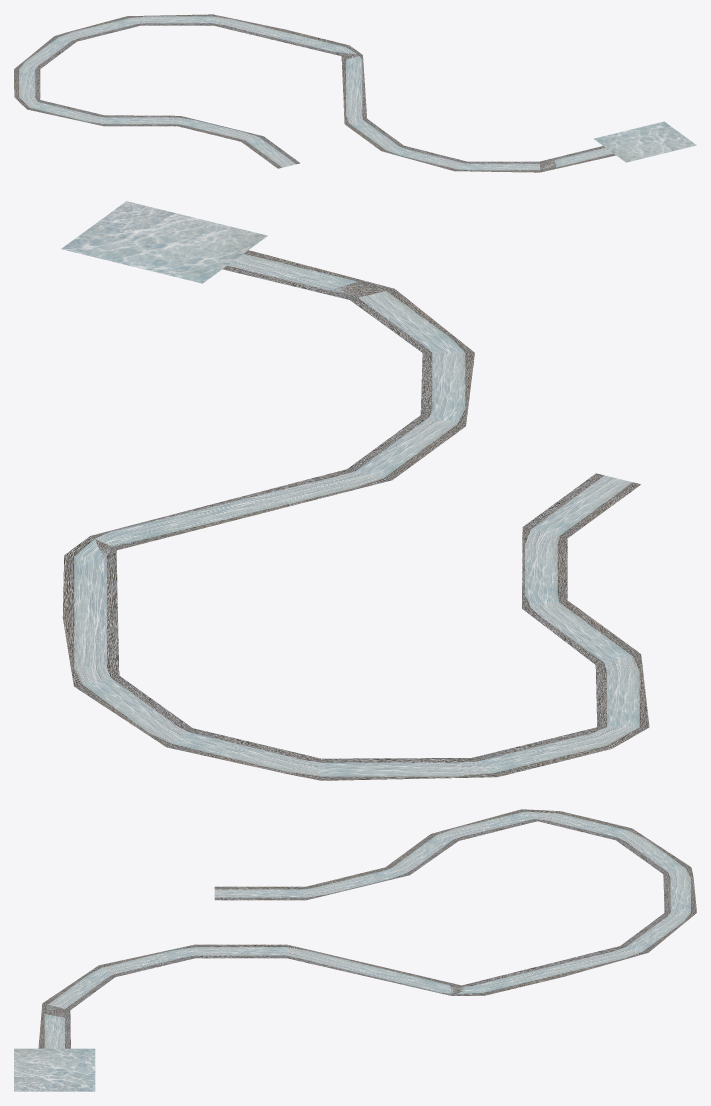
The model's file is level_true.fbx.
3 renders of one model, top to bottom at view 1: azimuth 30°, elevation 25°; view 2: azimuth 150°, elevation 25°; view 3: azimuth 270°, elevation 25°, orthographic. The views are drawn at different scales.
Visible parts, largest first — view 1: Box033, Box023, Box024, Box019, Box021, Box027, Box017, Box020, Box026, Box018, Box022, Box028 (+3 smaller); view 2: Box033, Box023, Box024, Box019, Box020, Box021, Box018, Box028, Box026, Box022, Box027, Box025 (+3 smaller); view 3: Box033, Box023, Box024, Box019, Box025, Box015, Box026, Box020, Box018, Box021, Box016, Box028 (+3 smaller).
Part boxes in pixels (bbox=[...]): Box033: bbox=[594, 121, 696, 162]; Box023: bbox=[212, 14, 362, 56]; Box024: bbox=[341, 55, 366, 123]; Box019: bbox=[14, 69, 40, 109]; Box021: bbox=[54, 16, 139, 41]; Box027: bbox=[454, 161, 539, 172]; Box017: bbox=[104, 115, 180, 126]; Box020: bbox=[14, 36, 76, 69]; Box026: bbox=[381, 145, 466, 170]; Box018: bbox=[27, 100, 104, 126]; Box022: bbox=[127, 14, 212, 25]; Box028: bbox=[540, 146, 615, 172]; Box033: bbox=[61, 201, 267, 283]; Box023: bbox=[62, 536, 119, 686]; Box024: bbox=[90, 469, 391, 550]; Box019: bbox=[472, 727, 649, 776]; Box020: bbox=[321, 758, 497, 780]; Box021: bbox=[167, 728, 321, 780]; Box018: bbox=[595, 654, 649, 727]; Box028: bbox=[222, 250, 394, 299]; Box026: bbox=[420, 353, 474, 426]; Box022: bbox=[74, 675, 192, 746]; Box027: bbox=[350, 289, 474, 352]; Box025: bbox=[347, 415, 465, 480]; Box033: bbox=[14, 1048, 95, 1091]; Box023: bbox=[452, 946, 647, 995]; Box024: bbox=[286, 944, 461, 995]; Box019: bbox=[522, 809, 631, 840]; Box025: bbox=[195, 944, 286, 958]; Box015: bbox=[214, 886, 305, 900]; Box026: bbox=[99, 944, 195, 976]; Box020: bbox=[616, 828, 690, 873]; Box018: bbox=[431, 809, 537, 840]; Box021: bbox=[663, 867, 696, 912]; Box016: bbox=[306, 867, 409, 900]; Box028: bbox=[38, 1003, 70, 1048].
Bounding box in the file's own units: 82196 × 5 × 83989.
Materials: 2 (2 with a texture image).
